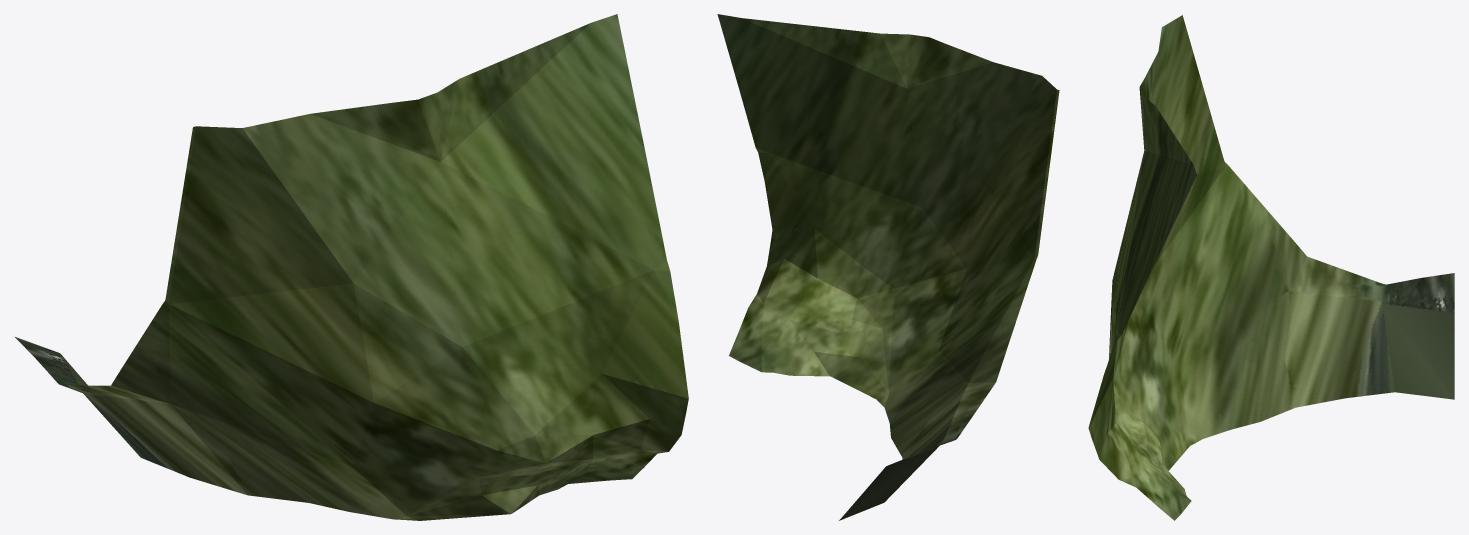
The picture shows the model from 3 angles, left to right: view 1: azimuth 30°, elevation 25°; view 2: azimuth 150°, elevation 25°; view 3: azimuth 270°, elevation 25°; orthographic projection. The views are drawn at different scales.
Size of the model in its own units: 2.95 by 2.95 by 2.83.
3 materials, 3 textured.
